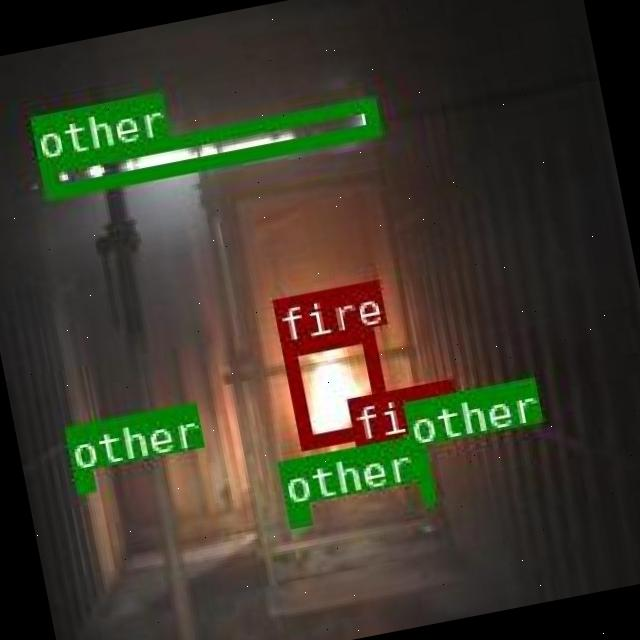fire: (278, 326, 390, 448), (355, 435, 409, 487)
